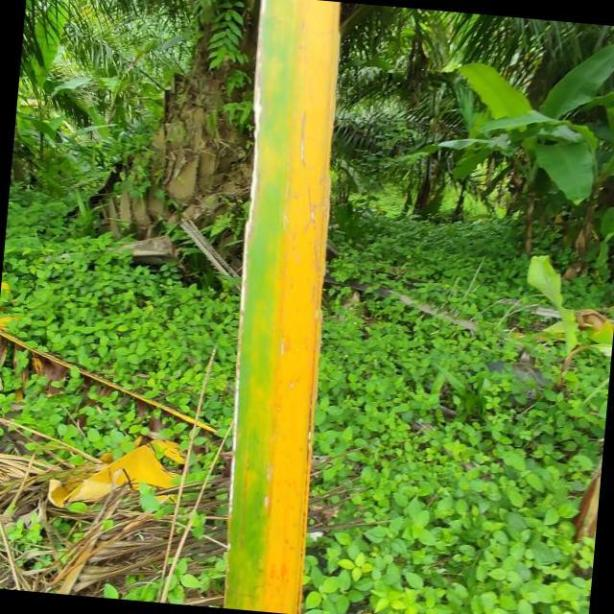Megnesium: (221, 0, 342, 614)
